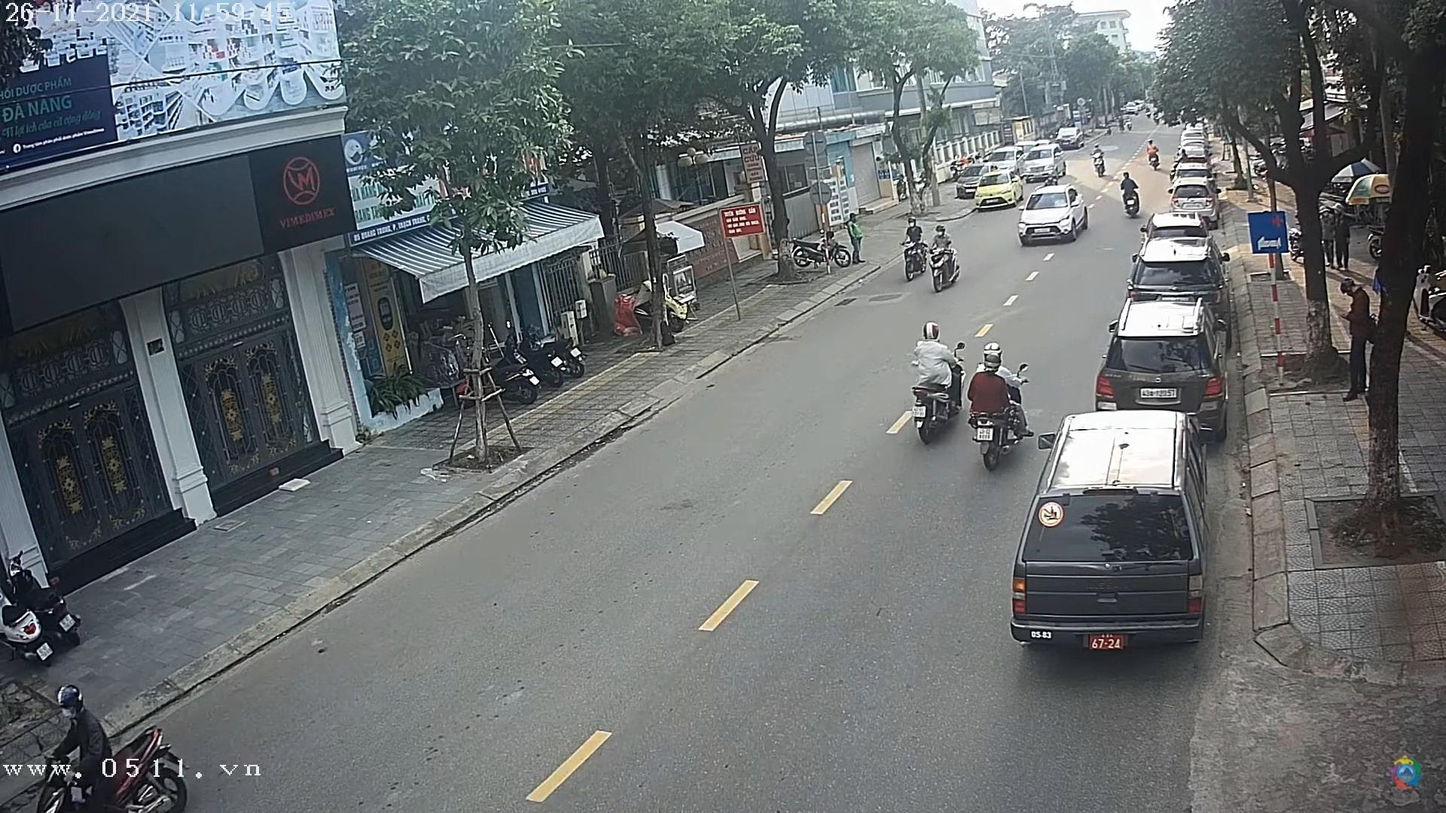car: (1010, 414, 1203, 650), (1097, 301, 1225, 420), (1133, 235, 1218, 287), (1020, 186, 1092, 246), (1144, 212, 1211, 242), (1168, 181, 1218, 217), (1057, 126, 1086, 147)
motorbike: (968, 404, 1029, 471), (898, 382, 959, 443), (929, 245, 960, 294), (901, 239, 932, 285), (1121, 192, 1147, 215)
